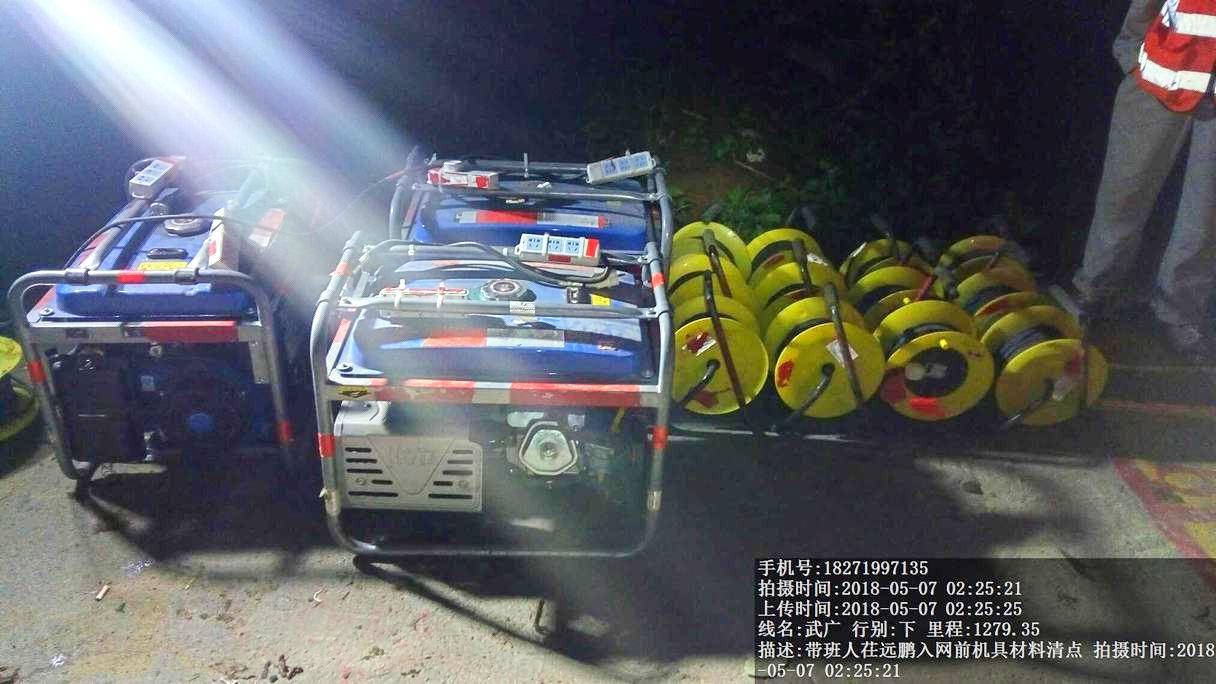DJ: (305, 246, 679, 565), (50, 137, 328, 488), (379, 140, 678, 241)
DX: (989, 309, 1103, 441), (768, 295, 880, 428), (873, 304, 987, 432), (671, 294, 771, 436), (851, 260, 958, 308), (941, 269, 1056, 312), (756, 259, 855, 301)
